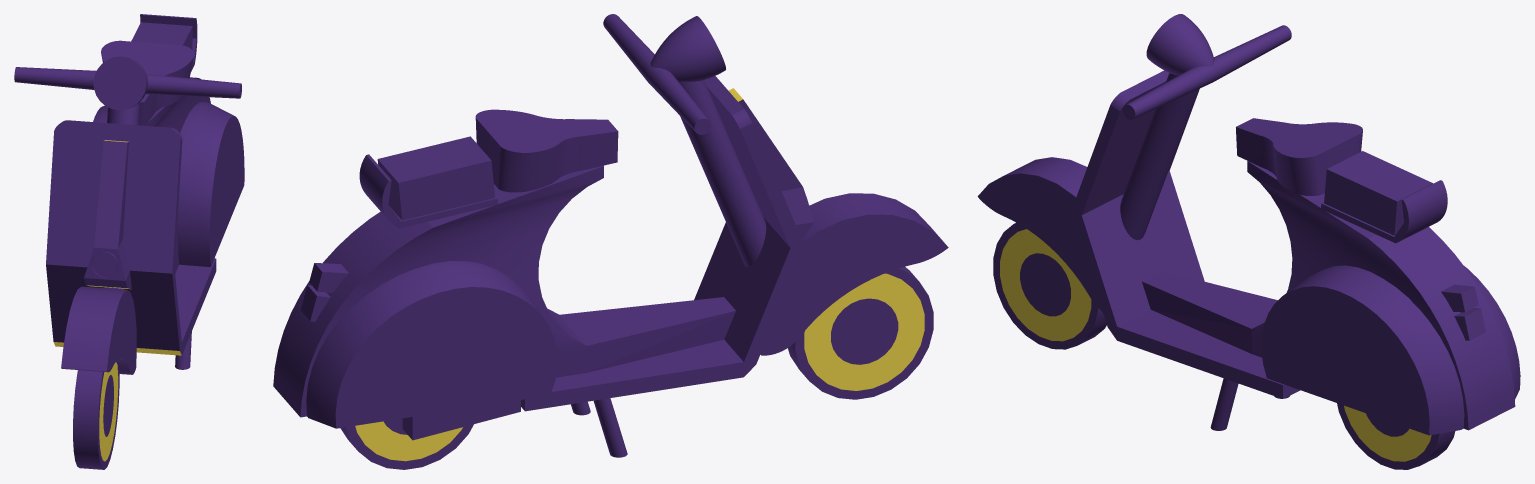
The model's file is motoglupconvuelta.glb.
The picture shows the model from 3 angles, left to right: view 1: azimuth 30°, elevation 25°; view 2: azimuth 150°, elevation 25°; view 3: azimuth 270°, elevation 25°; orthographic projection. The views are drawn at different scales.
Visible parts, largest first — view 1: 3d-model; view 2: 3d-model; view 3: 3d-model.
Part boxes in pixels (x1,y1,x2,y2): 3d-model: (14, 14, 244, 469); 3d-model: (273, 14, 948, 469); 3d-model: (977, 14, 1520, 469).
Size of the model in its own units: 1.03 by 0.8952 by 1.19.
